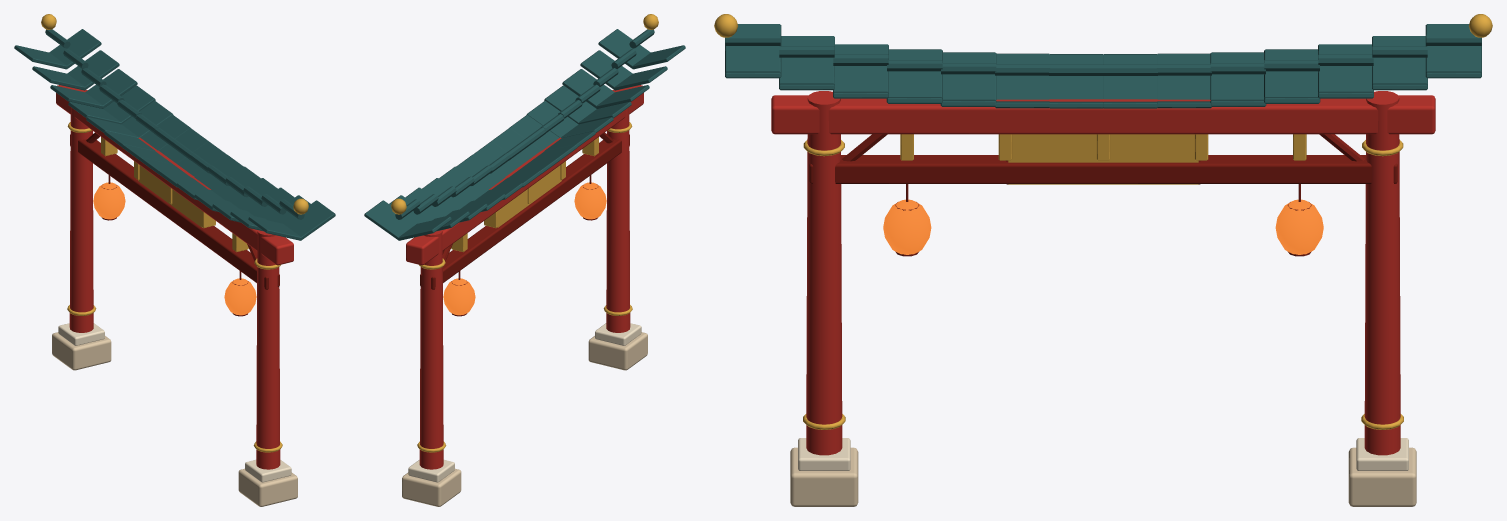
The model's file is rt_lantern_gate.glb.
3 views of the same model, side by side, from view 1: azimuth 30°, elevation 25°; view 2: azimuth 150°, elevation 25°; view 3: azimuth 270°, elevation 25° (orthographic). The views are drawn at different scales.
Visible parts, largest first — view 1: rt_lantern_gate_body; view 2: rt_lantern_gate_body; view 3: rt_lantern_gate_body.
Boxes of the visible parts, x1,y1,x2,y2 form: rt_lantern_gate_body: (14,14,335,506); rt_lantern_gate_body: (364,14,685,506); rt_lantern_gate_body: (714,14,1492,506).
Bounding box in the file's own units: 1.6 × 7.01 × 10.32.
